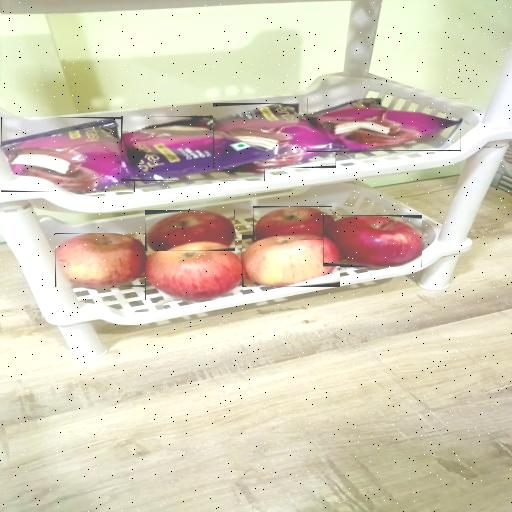Apple: (145, 242, 243, 299), (242, 235, 340, 287), (55, 233, 147, 286), (324, 216, 421, 266), (146, 210, 235, 251), (253, 207, 332, 240)
Choco Pie: (2, 120, 135, 192), (123, 117, 265, 180), (307, 98, 461, 151), (213, 103, 336, 168)
